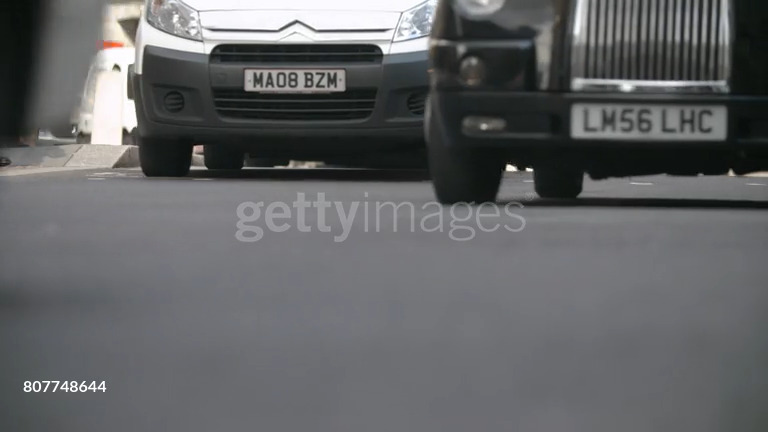car_number: (571, 104, 727, 140), (244, 69, 345, 92)
